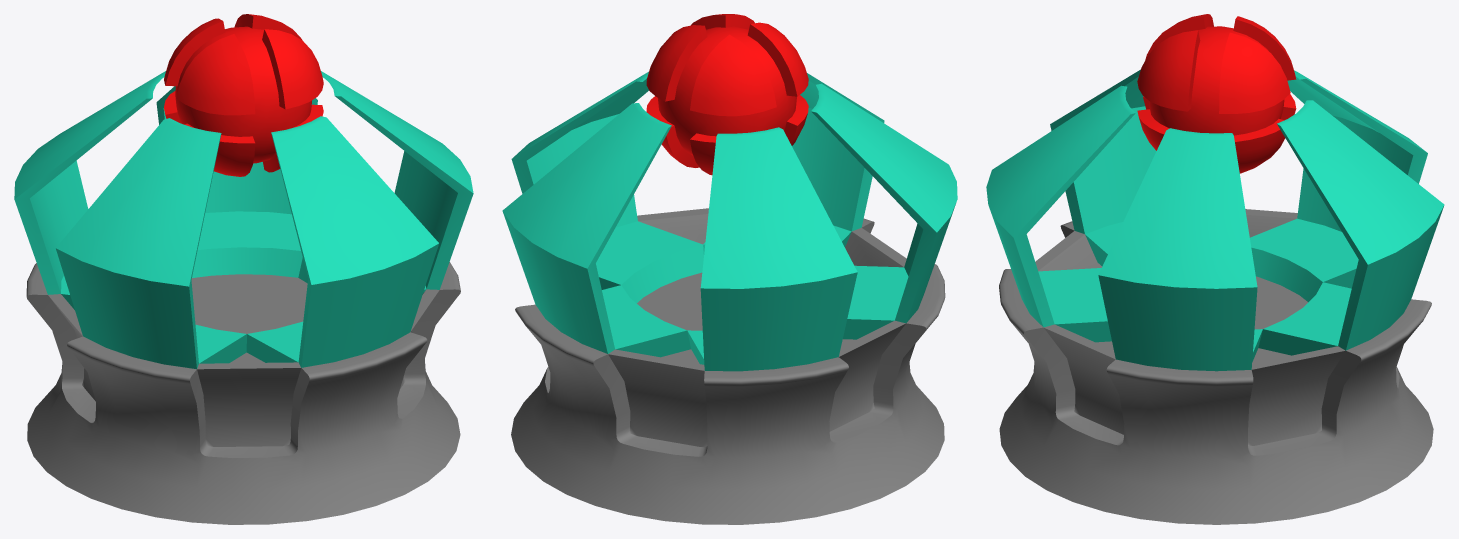
Rendered from Upgrade.fbx.
The picture shows the model from 3 angles, left to right: view 1: azimuth 30°, elevation 25°; view 2: azimuth 150°, elevation 25°; view 3: azimuth 270°, elevation 25°; orthographic projection.
Visible parts, largest first — view 1: Cylinder001, Box001; view 2: Cylinder001, Box001; view 3: Cylinder001, Box001.
Part boxes in pixels (box(x1,y1,x2,y2)): Cylinder001: box(14, 71, 473, 524); Box001: box(164, 14, 323, 176); Cylinder001: box(502, 71, 957, 524); Box001: box(646, 14, 808, 175); Cylinder001: box(986, 69, 1444, 524); Box001: box(1137, 14, 1296, 173).
Bounding box in the file's own units: 200 × 197 × 200.
